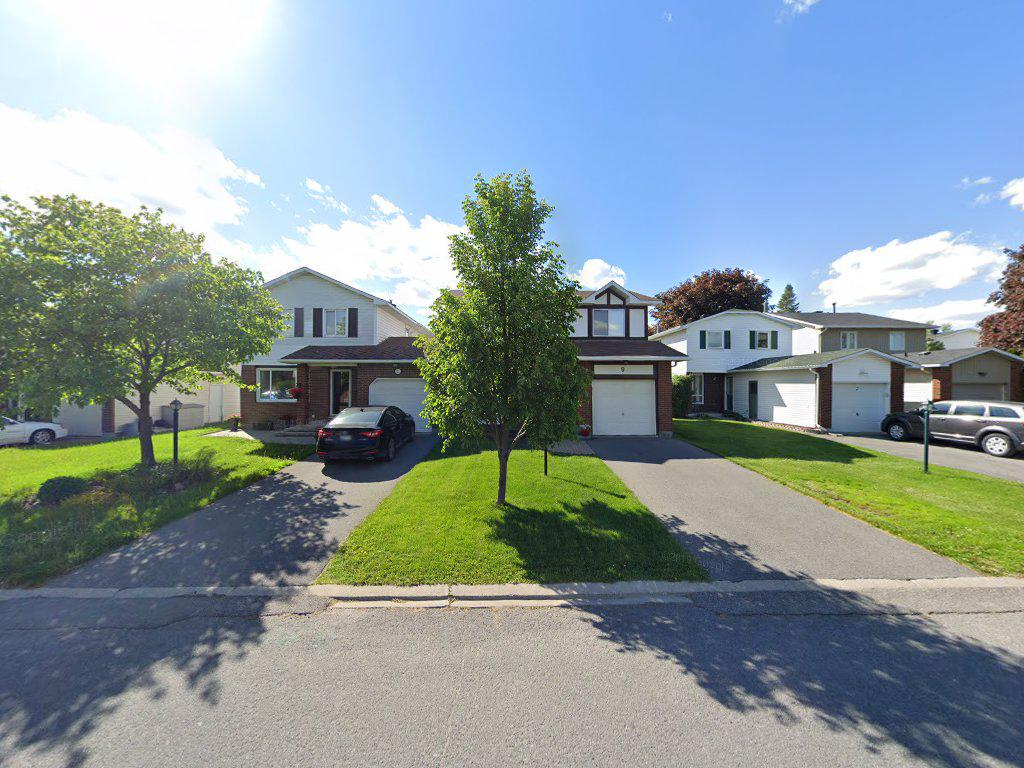trunk: (131, 376, 161, 473), (491, 411, 515, 514)
